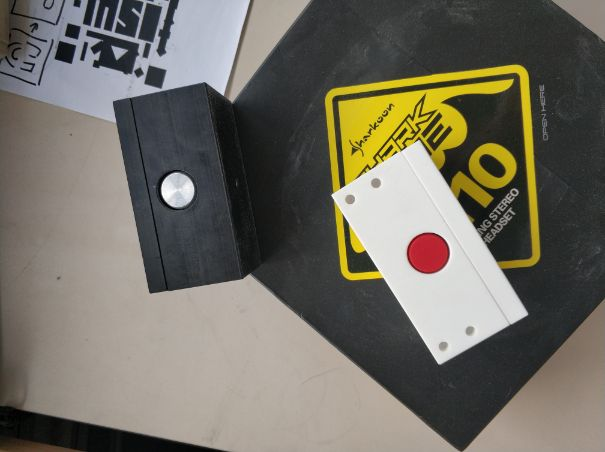black+black+silver: (110, 80, 269, 296)
white+white+red: (328, 138, 534, 369)
